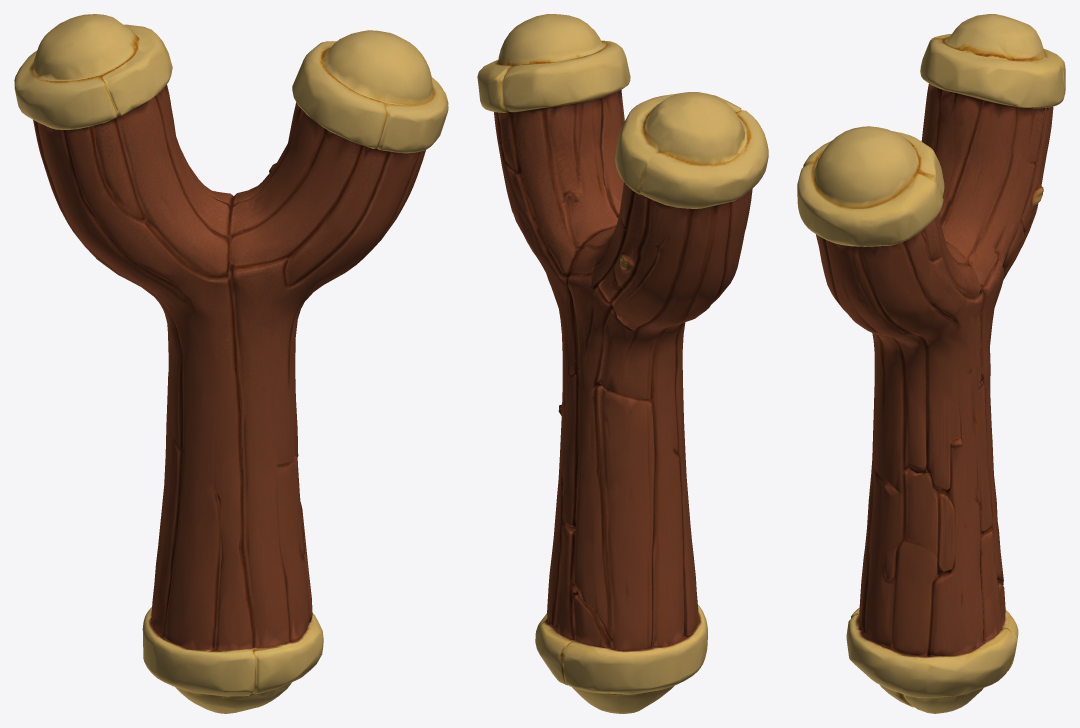
Rendered from divining+rod+3d+model.glb.
3 renders of one model, left to right at view 1: azimuth 30°, elevation 25°; view 2: azimuth 150°, elevation 25°; view 3: azimuth 270°, elevation 25°, orthographic. The views are drawn at different scales.
Parts seen in each view (by area): view 1: tripo_node_7dda69a4-5fef-47e2-9507-1c777778aa2d; view 2: tripo_node_7dda69a4-5fef-47e2-9507-1c777778aa2d; view 3: tripo_node_7dda69a4-5fef-47e2-9507-1c777778aa2d.
Part boxes in pixels (<box>): tripo_node_7dda69a4-5fef-47e2-9507-1c777778aa2d: <box>14,14,448,713</box>; tripo_node_7dda69a4-5fef-47e2-9507-1c777778aa2d: <box>477,14,768,713</box>; tripo_node_7dda69a4-5fef-47e2-9507-1c777778aa2d: <box>797,14,1065,713</box>.
Size of the model in its own units: 0.5178 by 0.9801 by 0.3712.
Materials: 1 (1 with a texture image).
